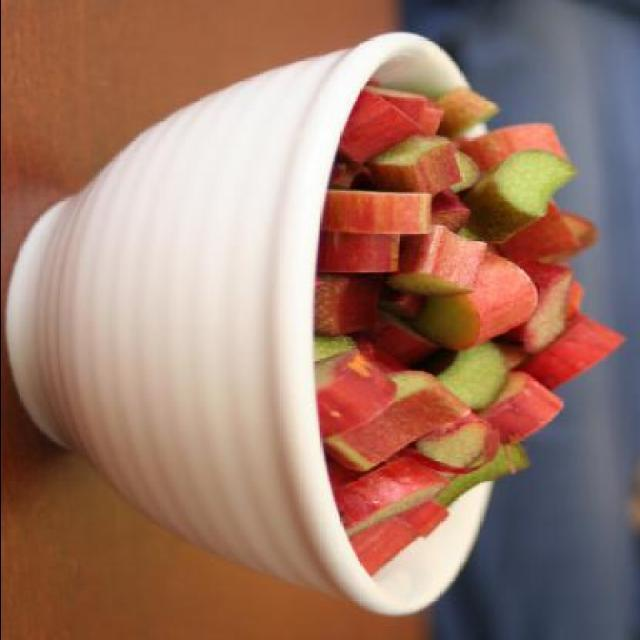Salad: (316, 80, 626, 578)
